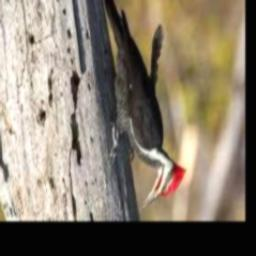Woodpecker: (97, 0, 186, 211)
